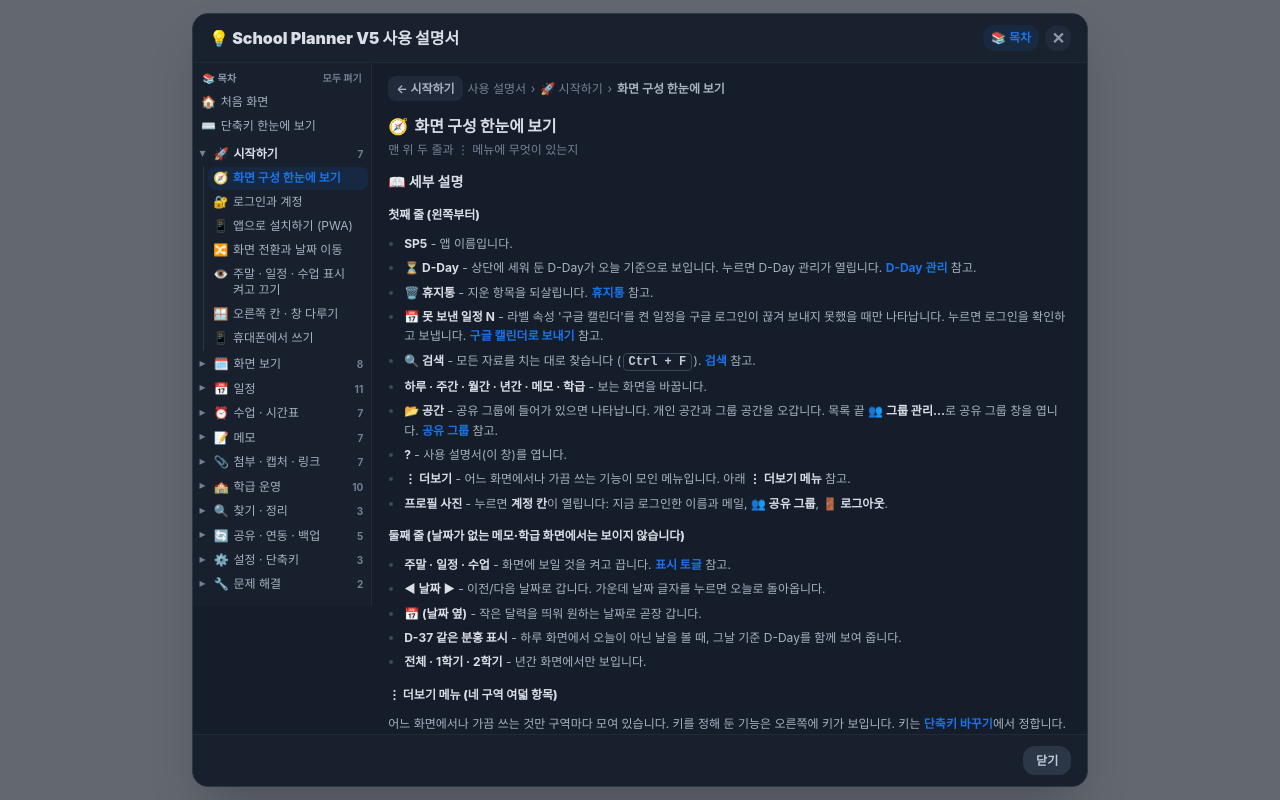
Test case: 사용 설명서 - 기능별 분류 → 세부 기능 → 설명·사용 예 › 설명 안의 연결을 누르면 다른 분류의 항목으로도 간다
Click the button "D-Day 관리" at coordinates (917, 268), box top-left (886, 258), bottom-right (948, 278)
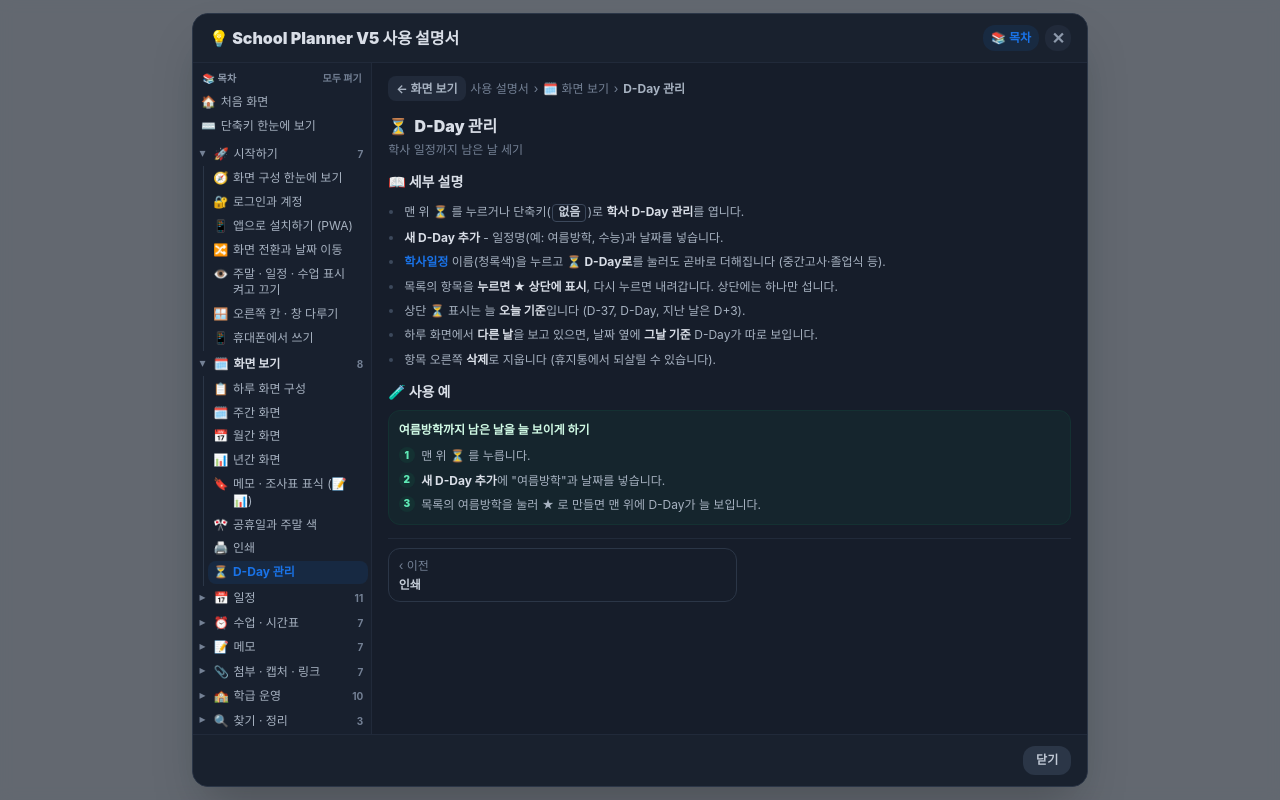
expect the navigation bar named "설명서 위치" shows "화면 보기": met, box top-left (388, 76), bottom-right (466, 102)
